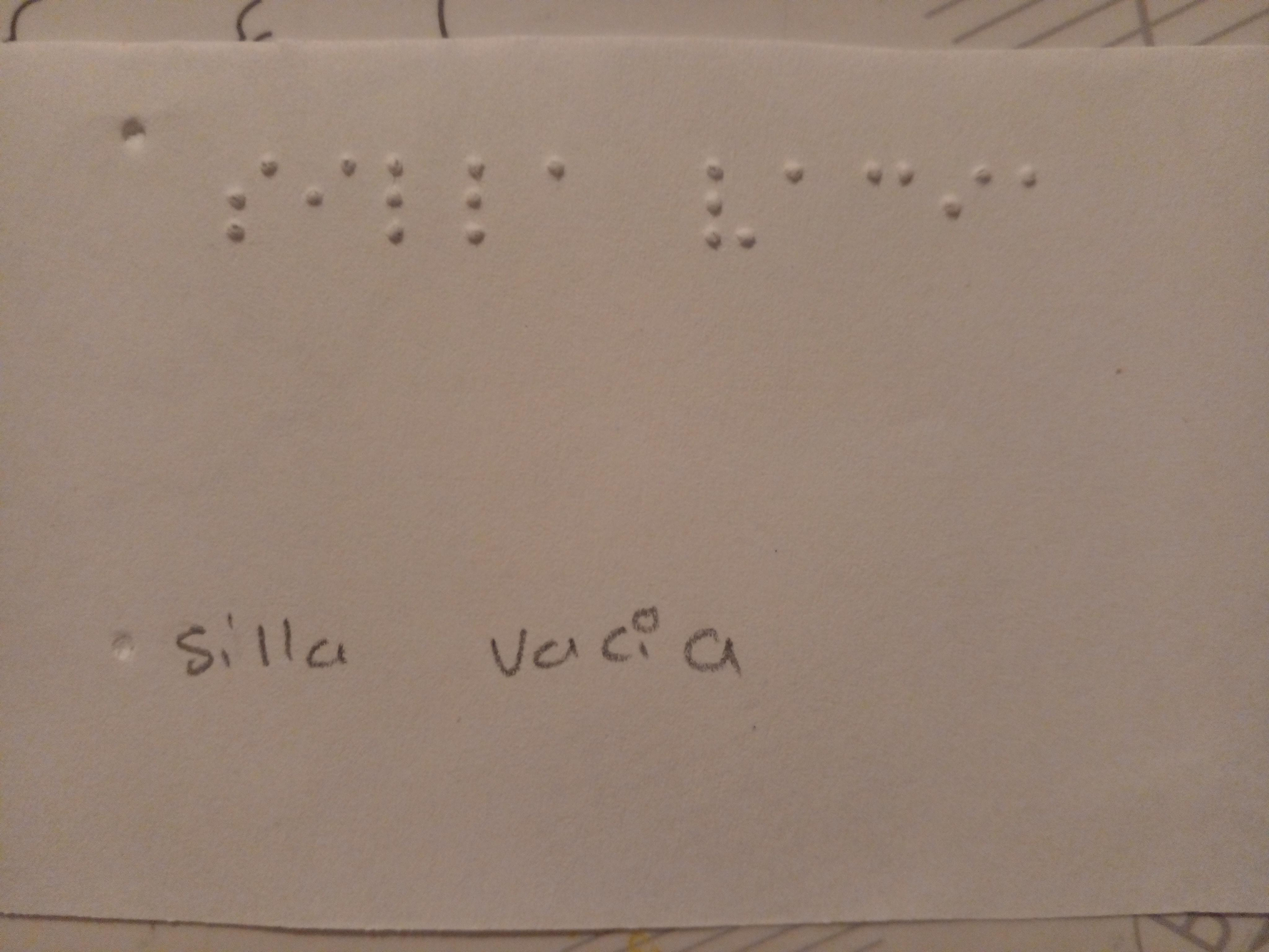a: (530, 143, 601, 206), (991, 146, 1047, 208), (778, 149, 827, 201)
c: (855, 147, 922, 211)
i: (291, 143, 366, 225), (926, 149, 999, 223)
l: (446, 139, 514, 257), (367, 149, 420, 267)
s: (215, 136, 287, 249)
v: (682, 150, 778, 271)
